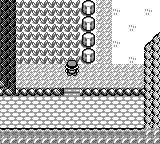captura: (16, 1, 80, 64)
main: (65, 61, 79, 75)
no-caminable: (0, 32, 159, 143), (1, 1, 16, 96), (80, 1, 96, 64)
salto: (82, 88, 143, 95), (17, 88, 64, 95)
